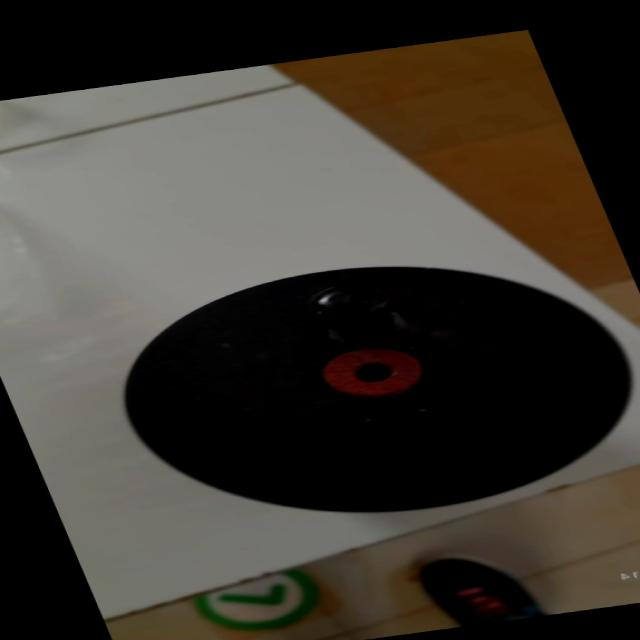Calorimeter: (73, 233, 640, 545)
